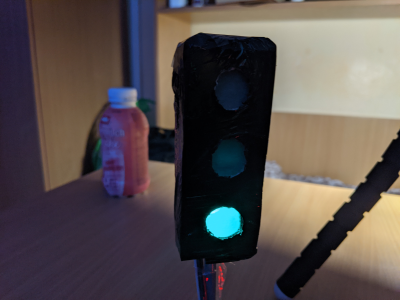trafficlight_green: (187, 41, 258, 254)
